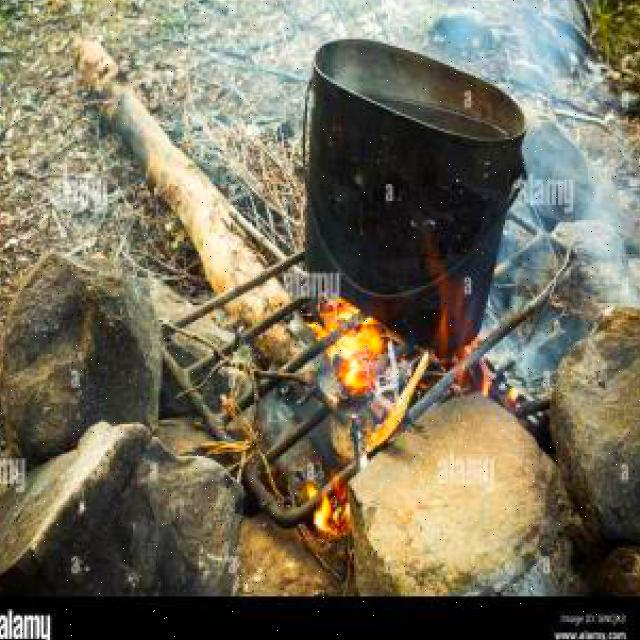fire: (282, 264, 388, 398), (296, 473, 349, 545)
smoke: (477, 74, 640, 394)
